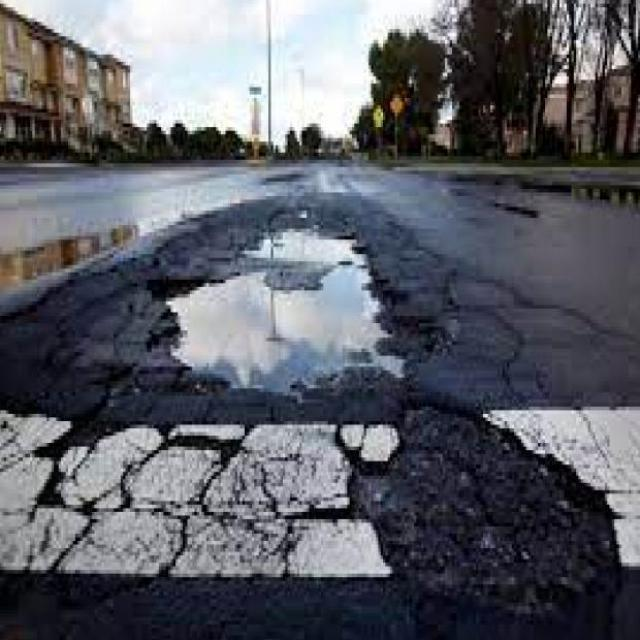Pathole: (109, 232, 452, 428)
